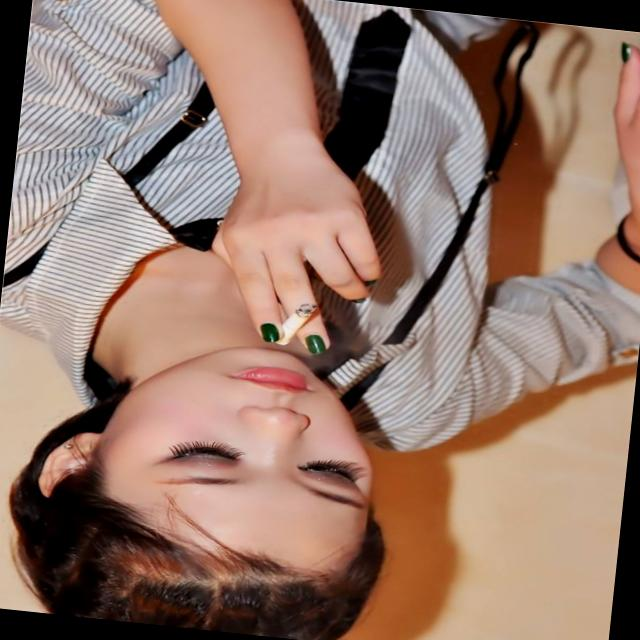smoke: (274, 304, 323, 338)
